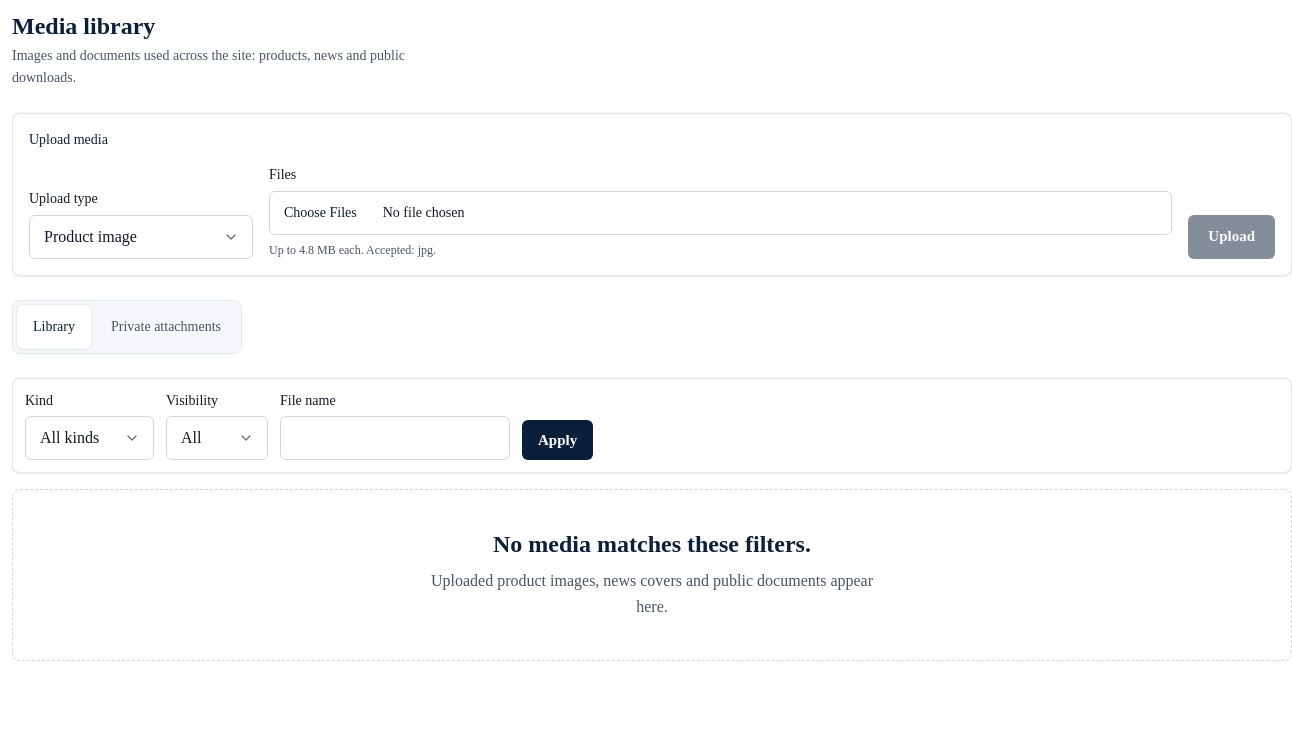
with media › lists private inquiry attachments read-only, linking to the owning inquiry
Click the tab "Private attachments" at (166, 327), box [95,305,237,349]
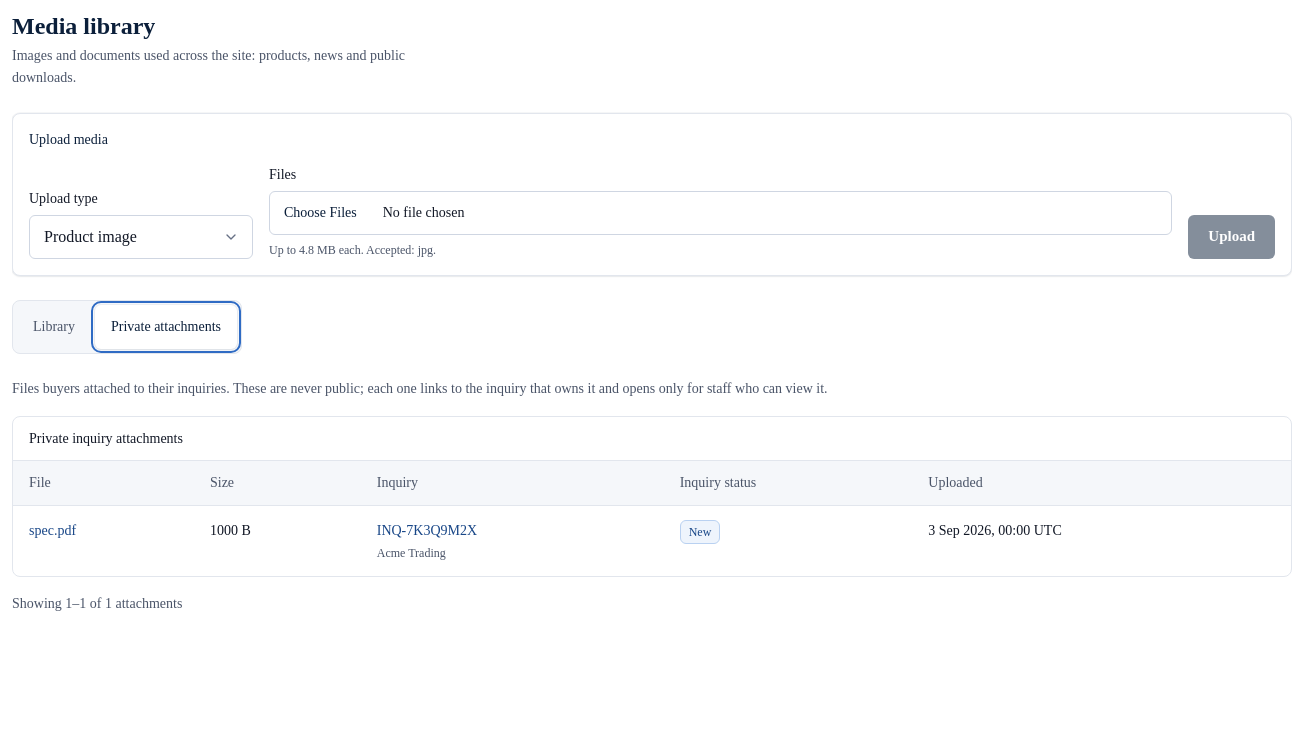
Now the text "Acme Trading" is shown, box [377,546,446,560]
